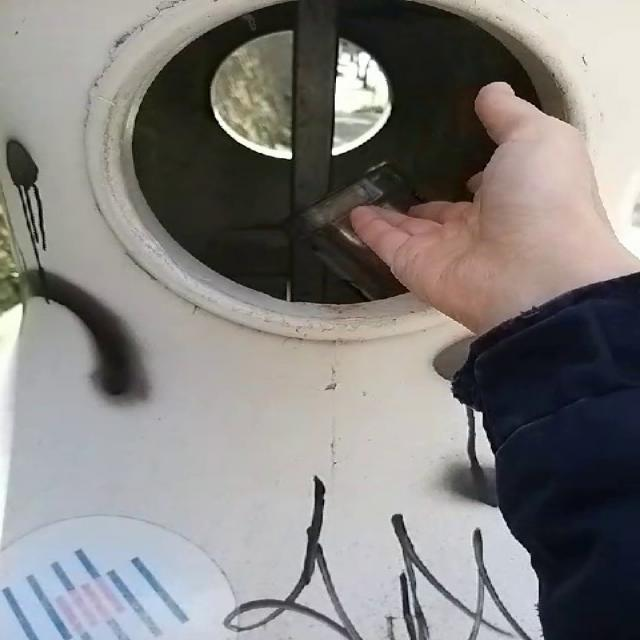Glass: (288, 162, 421, 300)
